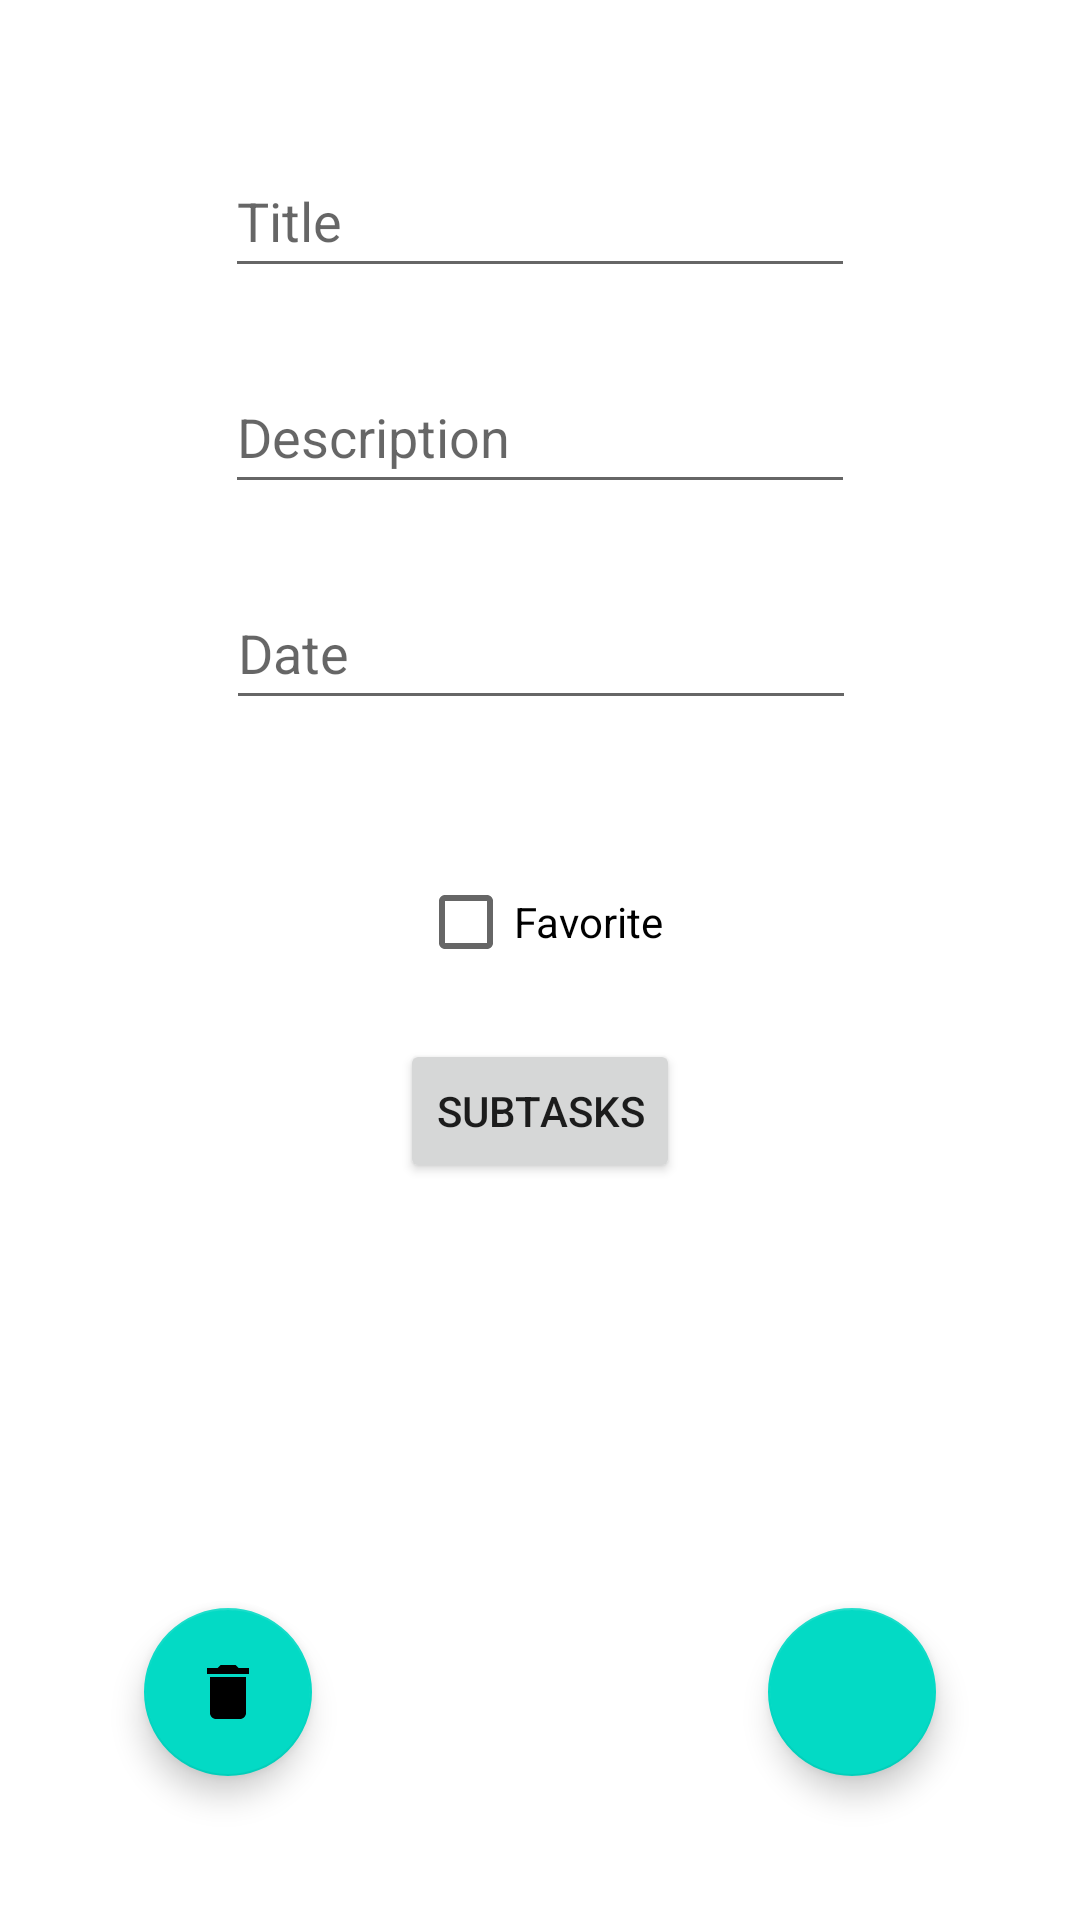

Screen size 1080x1920. Icon name, then its box in pixels as [x1,y1,x2,y2]:
Delete: [144,1608,312,1776]
